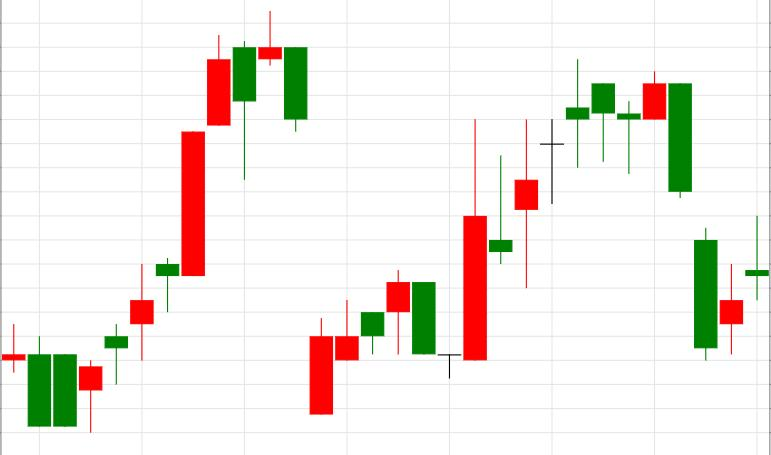hanging_man_fall: (463, 58, 615, 361)
